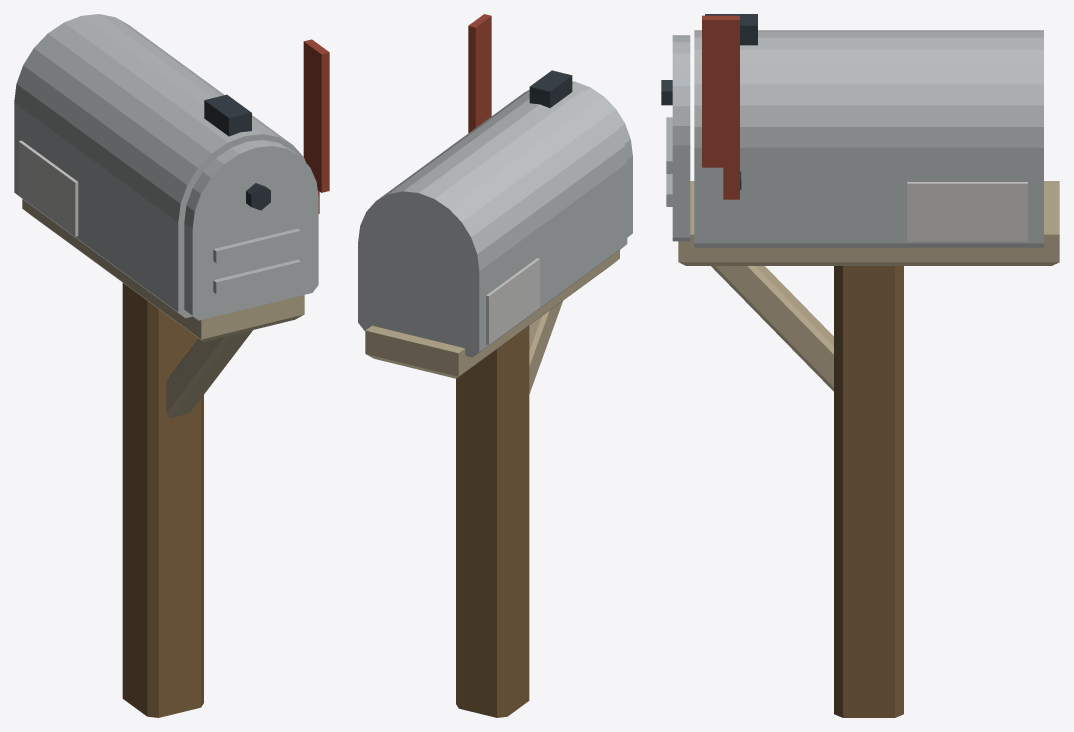
The model's file is curbside-mailbox-0e0736.glb.
The picture shows the model from 3 angles, left to right: view 1: azimuth 30°, elevation 25°; view 2: azimuth 150°, elevation 25°; view 3: azimuth 270°, elevation 25°; orthographic projection. The views are drawn at different scales.
Parts seen in each view (by area): view 1: mailbox-shell; view 2: mailbox-shell; view 3: mailbox-shell.
Boxes of the visible parts, left/top/right/bottom form: mailbox-shell: left=14, top=14, right=329, bottom=717; mailbox-shell: left=358, top=14, right=632, bottom=717; mailbox-shell: left=661, top=14, right=1059, bottom=717.
Bounding box in the file's own units: 0.3059 × 1.26 × 0.627.
